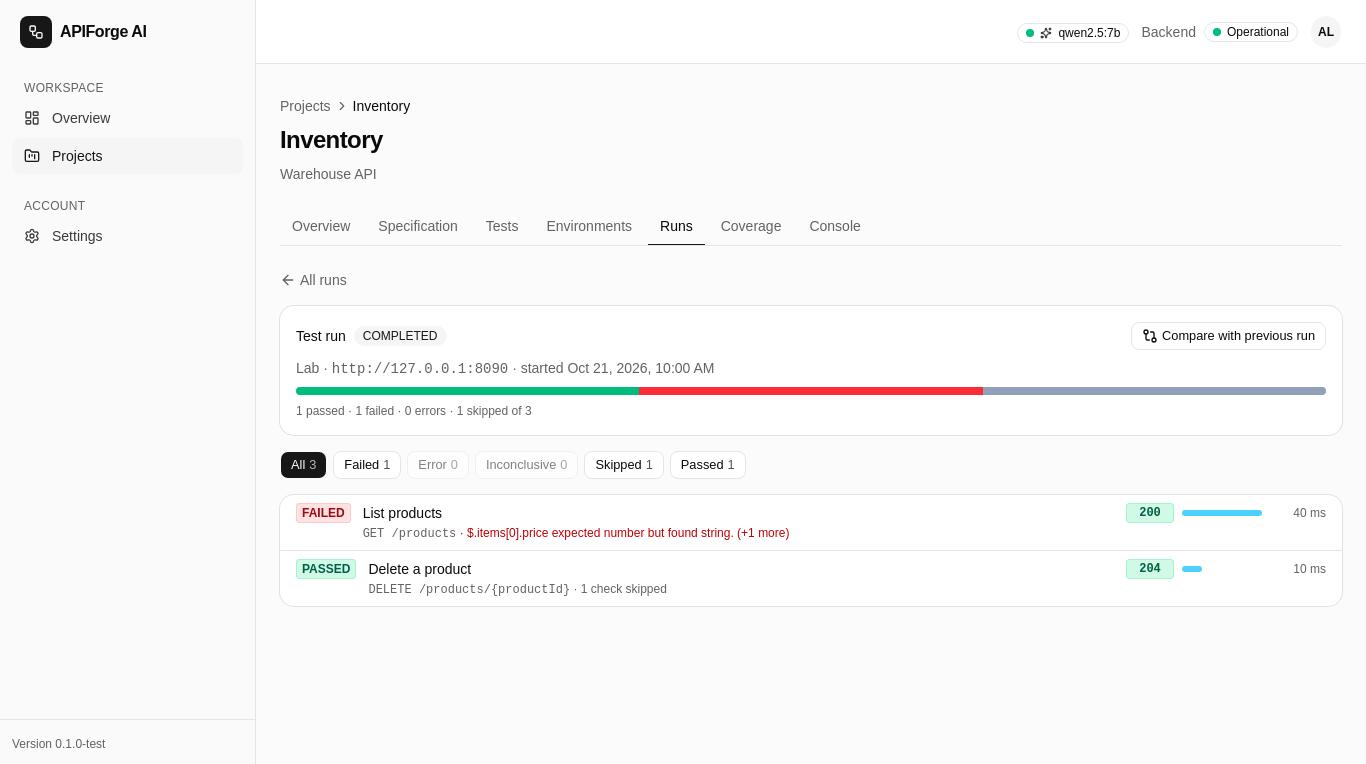
Test: Run reporting › filters results by outcome and shows assertions, expected versus actual, the marked body and timing
The width and height of the screenshot is (1366, 764).
Expected: the text "expected number but found string. (+1 more)" is shown, [456,526,790,540]
Expected: the text "· 1 check skipped" is shown, [570,582,667,596]
Click the button "Failed 1": (367, 465) [333,451,401,479]
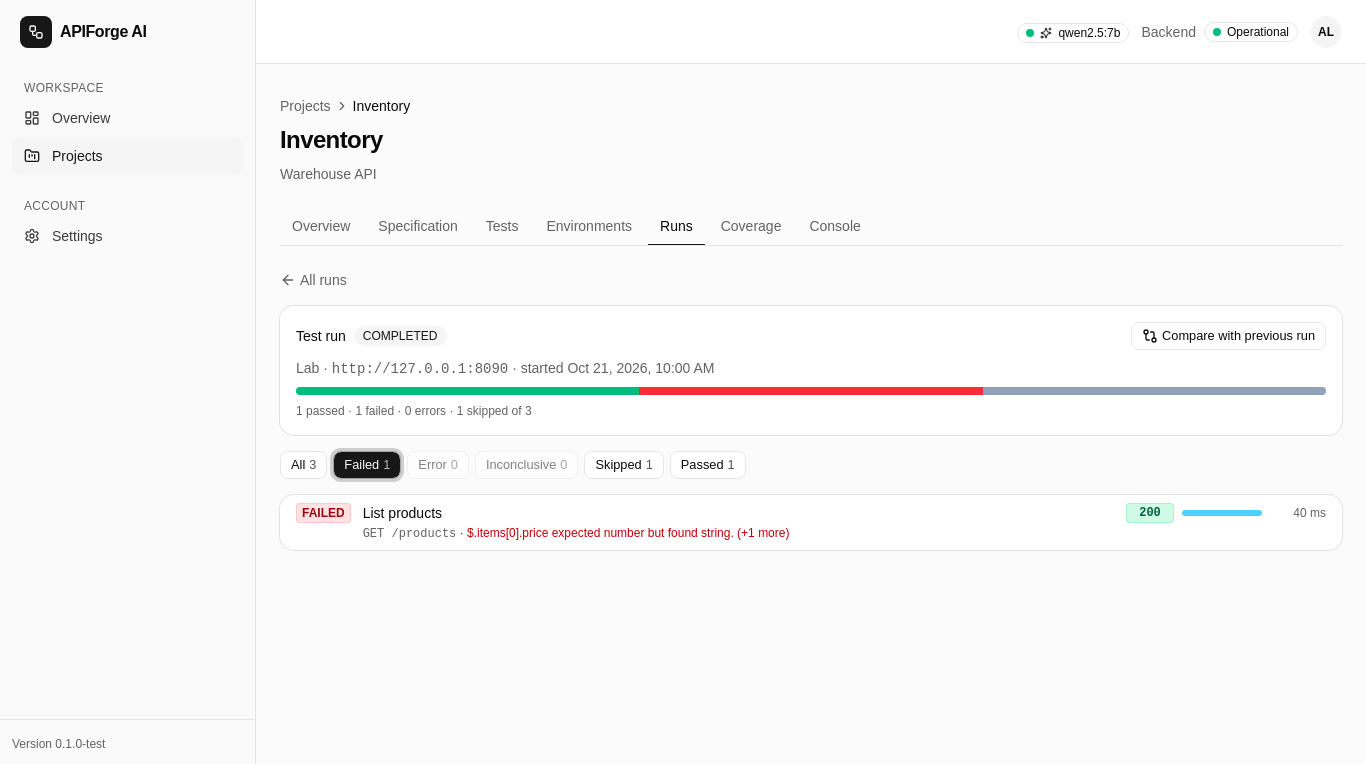
Expected: the button "Error 0" is disabled, [407,451,469,479]
Expected: the button "Failed 1" is pressed, [333,451,401,479]
Click the button "List products": (323, 513) [280,495,1342,550]
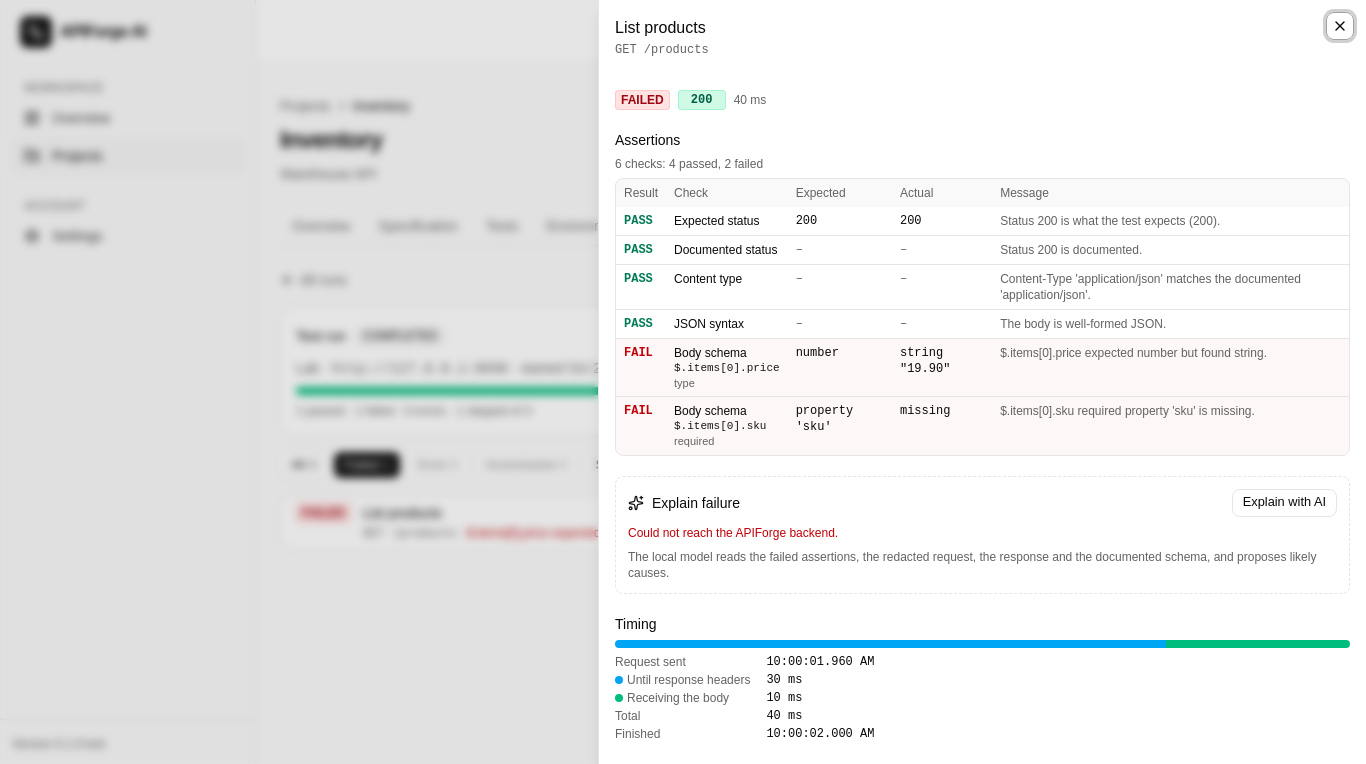
Expected: the text "6 checks: 4 passed, 2 failed" is shown, [615,157,763,171]
Expected: the text "FAIL" in the row of "string \"19.90\"" is shown, [624,346,653,360]
Expected: the text "number" is shown, [788,338,892,397]
Click the button "$.items[0].price": (727, 368) [674,361,780,376]
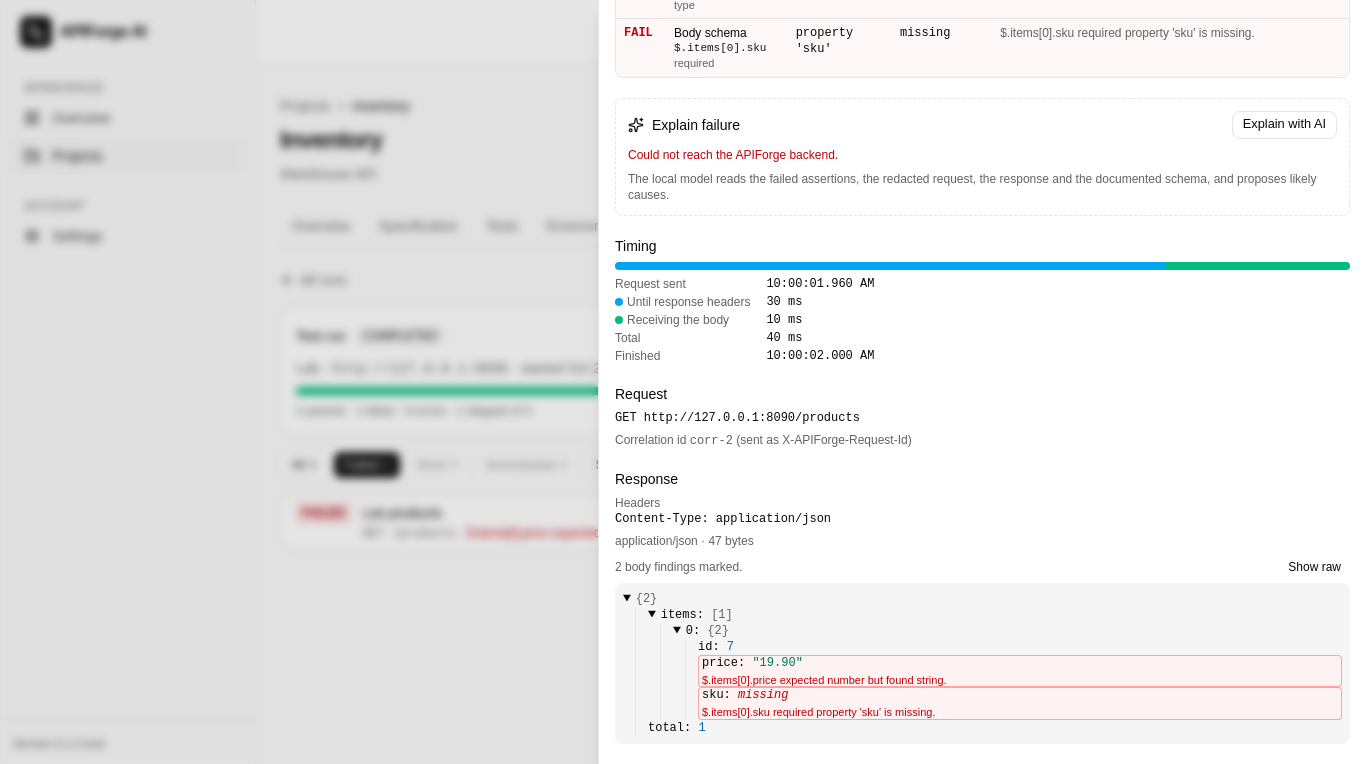
Expected: the text "30 ms" is shown, [766,295,802,309]
Expected: the text "10 ms" is shown, [766,313,802,327]
Expected: the text "40 ms" is shown, [766,331,802,345]
Click the button "Show raw": (1315, 567) [1279,555,1350,579]
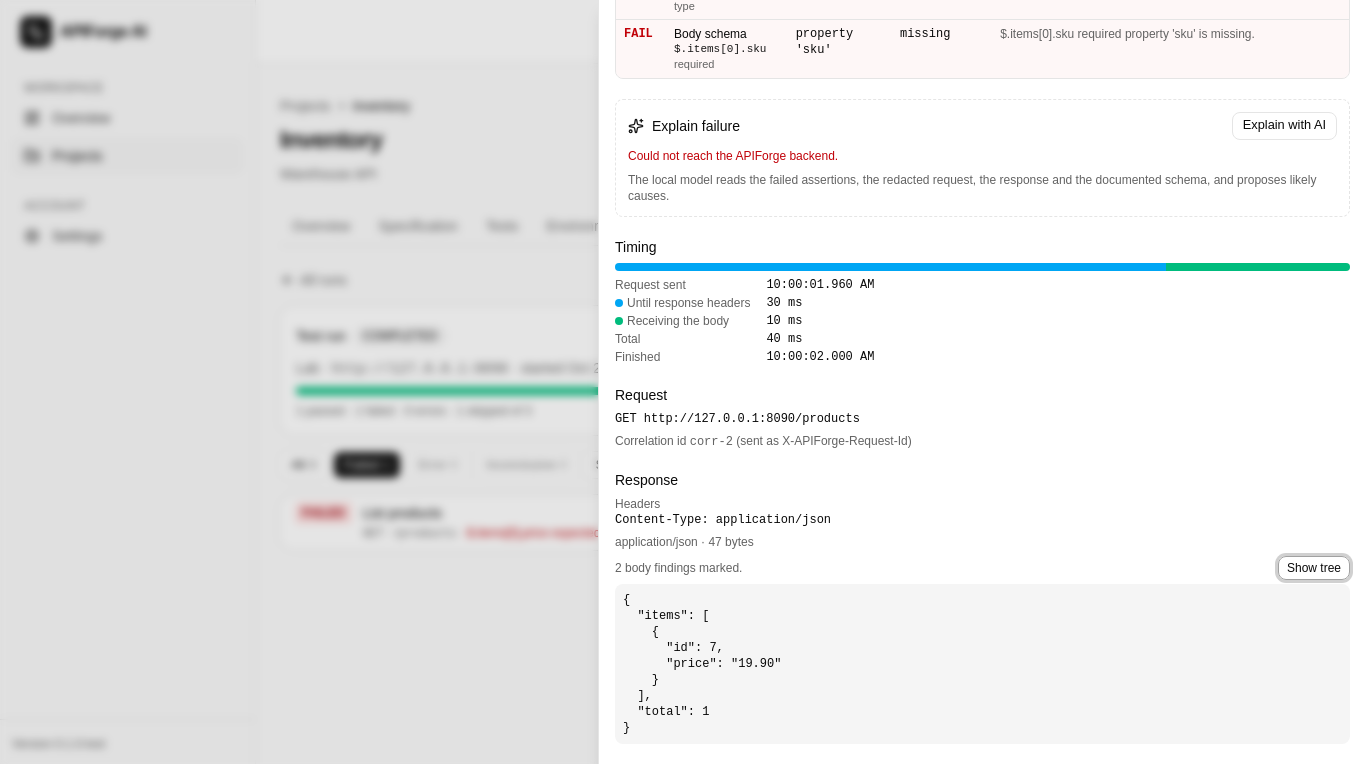
Expected: the text "{ \"items\": [ { \"id\": 7, \"price\": \"19.90\" } ], \"total\": 1 }" is shown, [615,584,1350,744]
